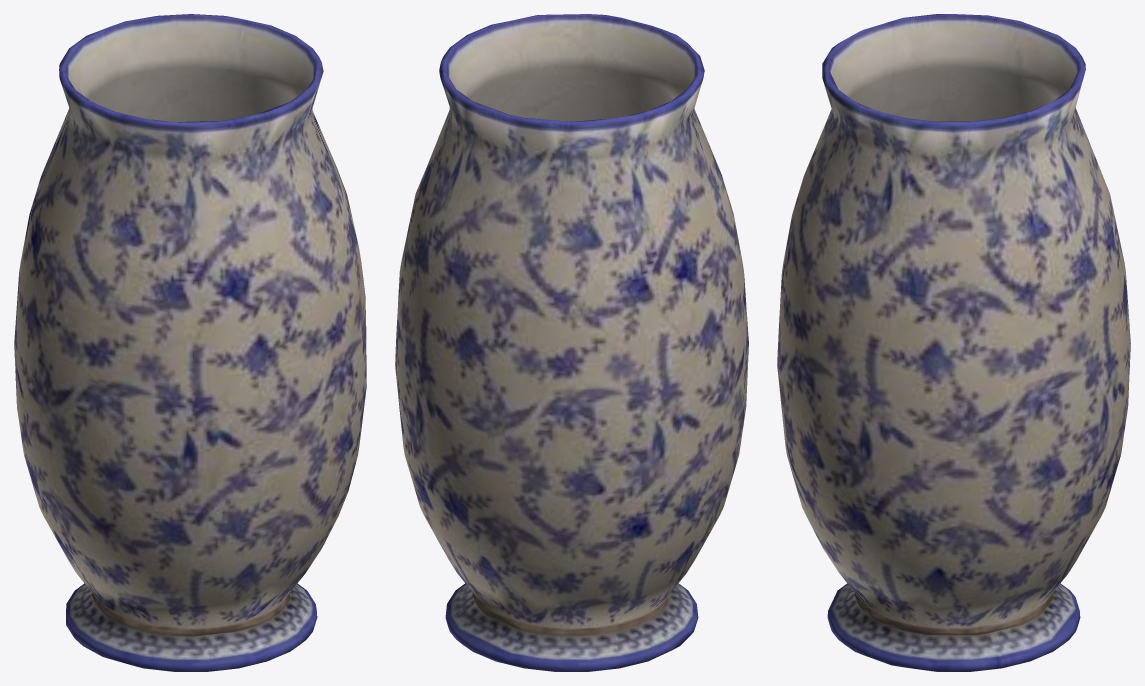
The model's file is antique_ceramic_vase_01.glb.
3 renders of one model, left to right at view 1: azimuth 30°, elevation 25°; view 2: azimuth 150°, elevation 25°; view 3: azimuth 270°, elevation 25°, orthographic.
Visible parts, largest first — view 1: antique_ceramic_vase_01; view 2: antique_ceramic_vase_01; view 3: antique_ceramic_vase_01.
Boxes of the visible parts, x1,y1,x2,y2 form: antique_ceramic_vase_01: (14, 14, 366, 671); antique_ceramic_vase_01: (395, 14, 748, 671); antique_ceramic_vase_01: (777, 14, 1130, 671).
Bounding box in the file's own units: 0.2549 × 0.4396 × 0.2549.
1 material, 1 textured.
